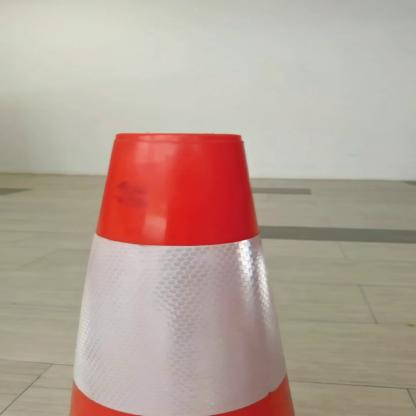cone: (59, 124, 343, 416)
